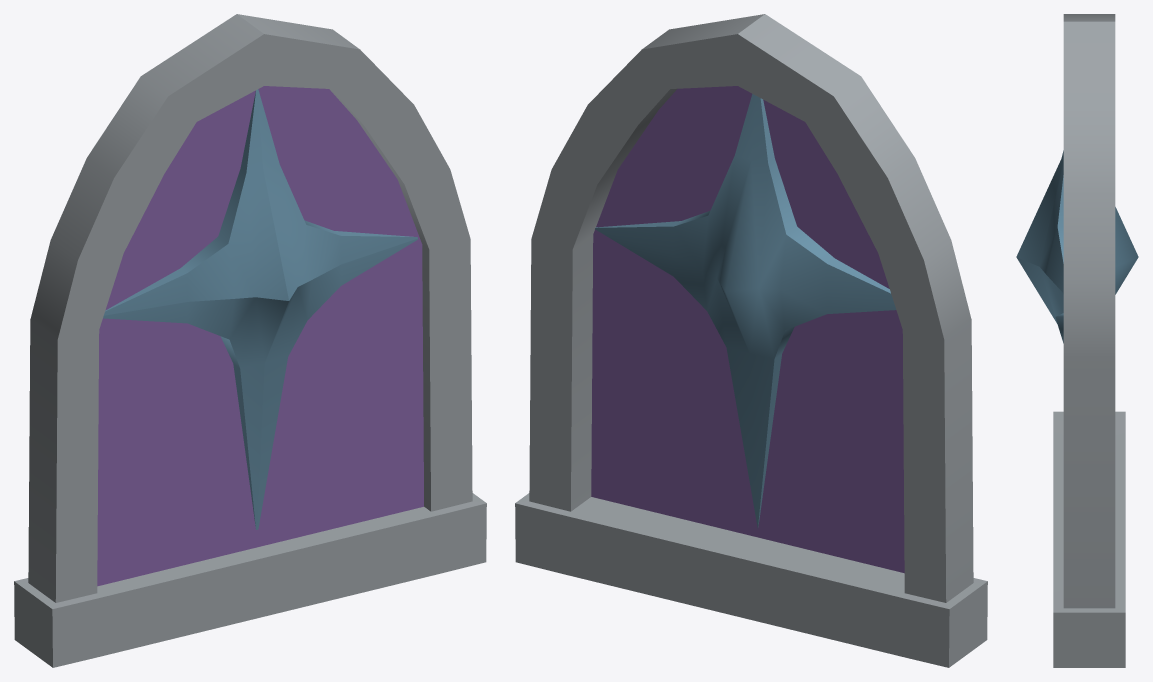
File: L3_wall_windows.fbx
3 renders of one model, left to right at view 1: azimuth 30°, elevation 25°; view 2: azimuth 150°, elevation 25°; view 3: azimuth 270°, elevation 25°, orthographic. The views are drawn at different scales.
Visible parts, largest first — view 1: L3_window; view 2: L3_window; view 3: L3_window.
Boxes of the visible parts, box(x1,y1,x2,y2) form: L3_window: box(14, 14, 486, 667); L3_window: box(515, 14, 987, 667); L3_window: box(1016, 14, 1138, 667).
Size of the model in its own units: 26.2 by 33.27 by 6.75.
